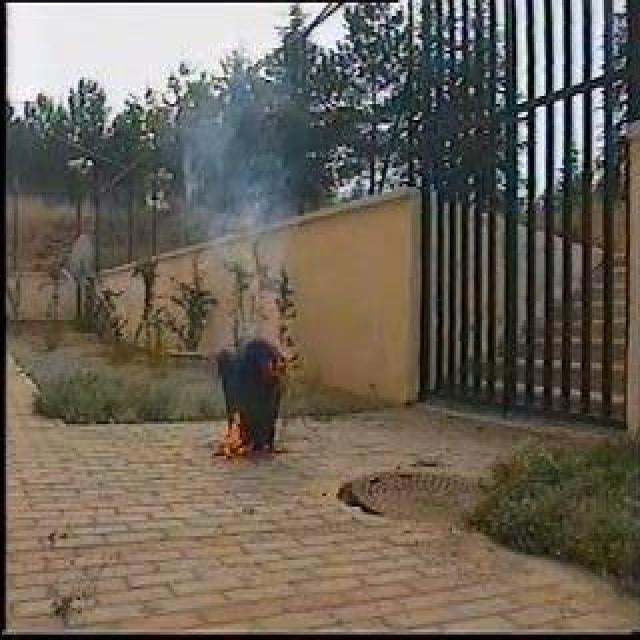fire: (213, 405, 263, 459)
smoke: (178, 108, 292, 257)
